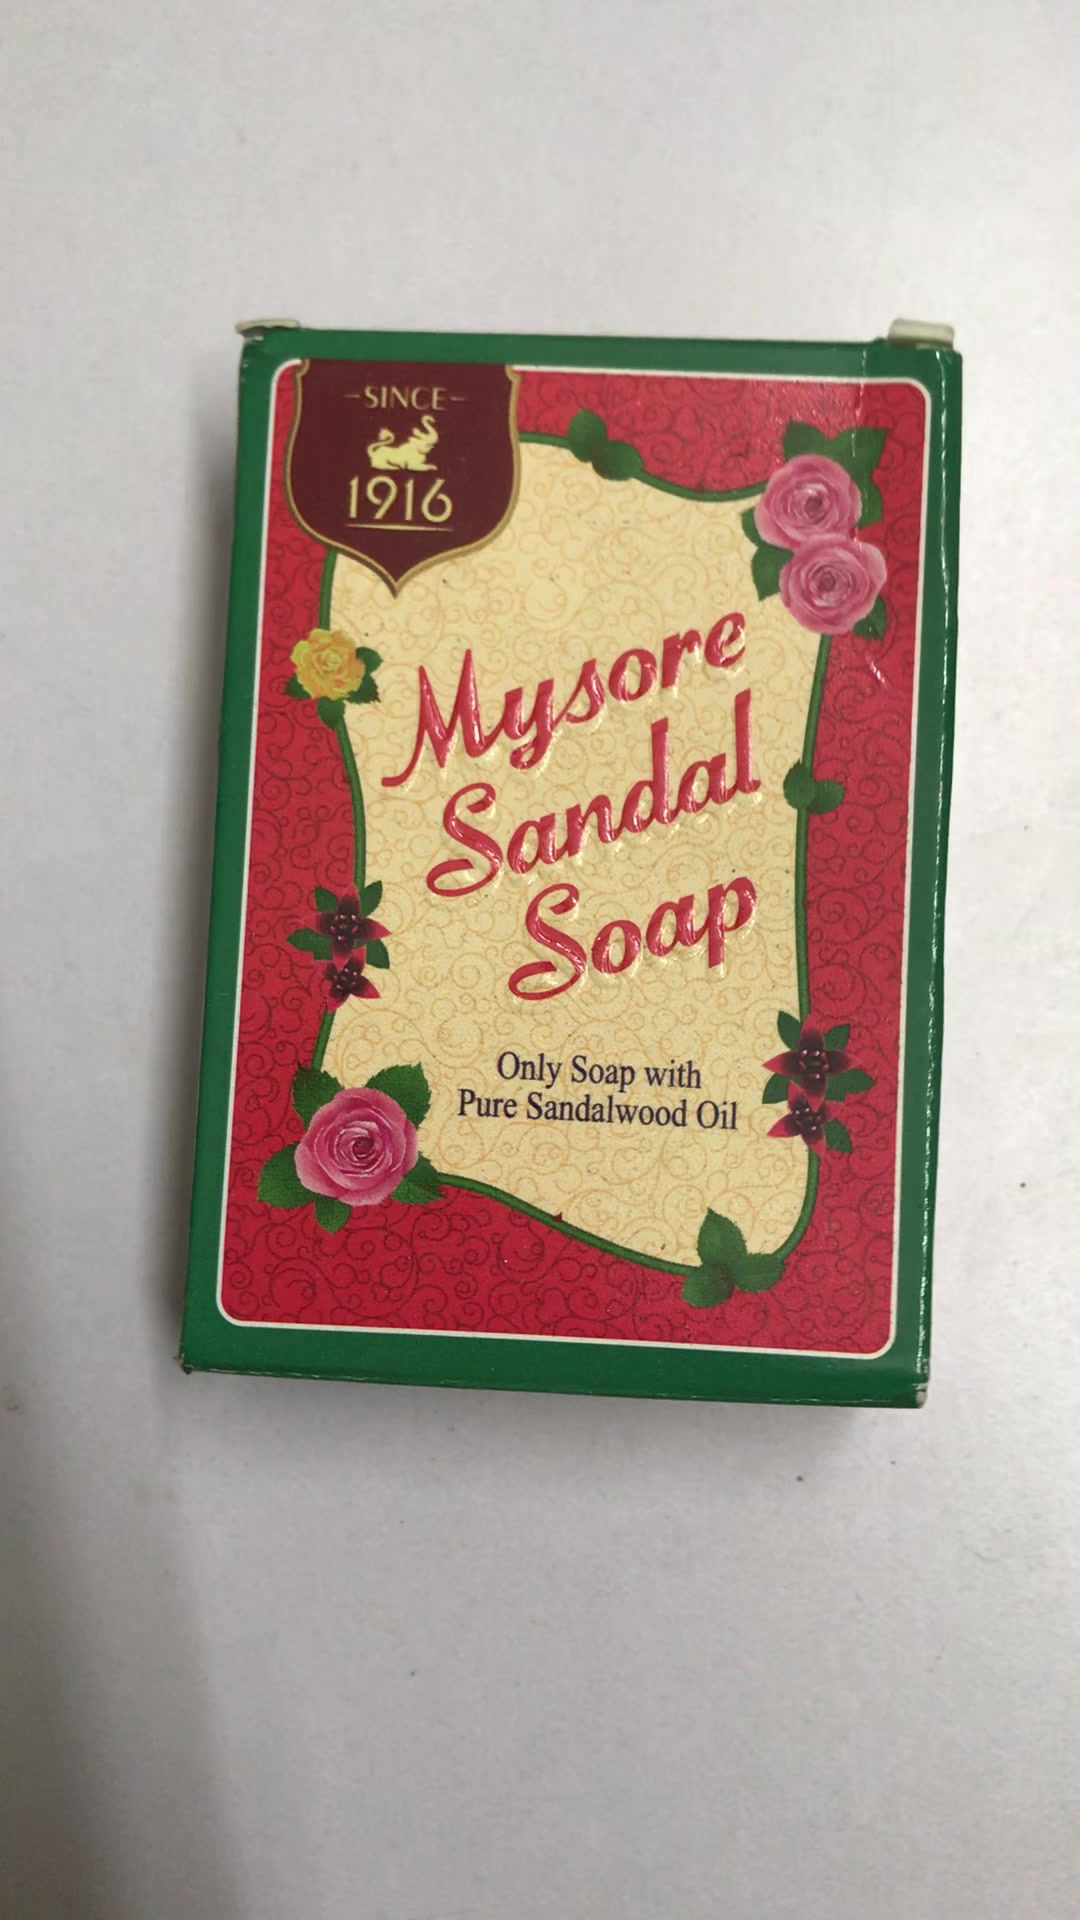mysore sandal soap: (178, 319, 938, 1396)
